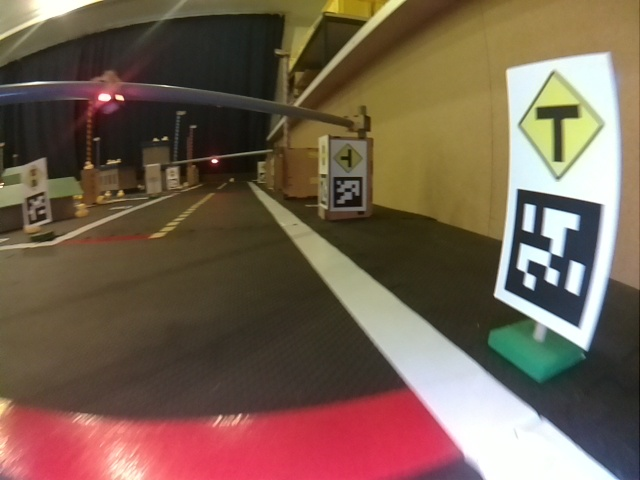Duckie: (84, 161, 93, 170)
Intersection sign: (518, 69, 606, 185), (332, 143, 364, 174)
QR code: (500, 193, 606, 331), (333, 180, 364, 207), (25, 192, 49, 225)
Signal sign: (24, 166, 46, 191)
Traffic light: (97, 72, 122, 115), (212, 157, 220, 166)
